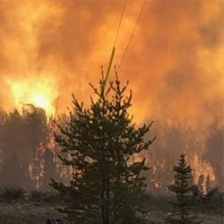fire: (1, 28, 198, 133)
